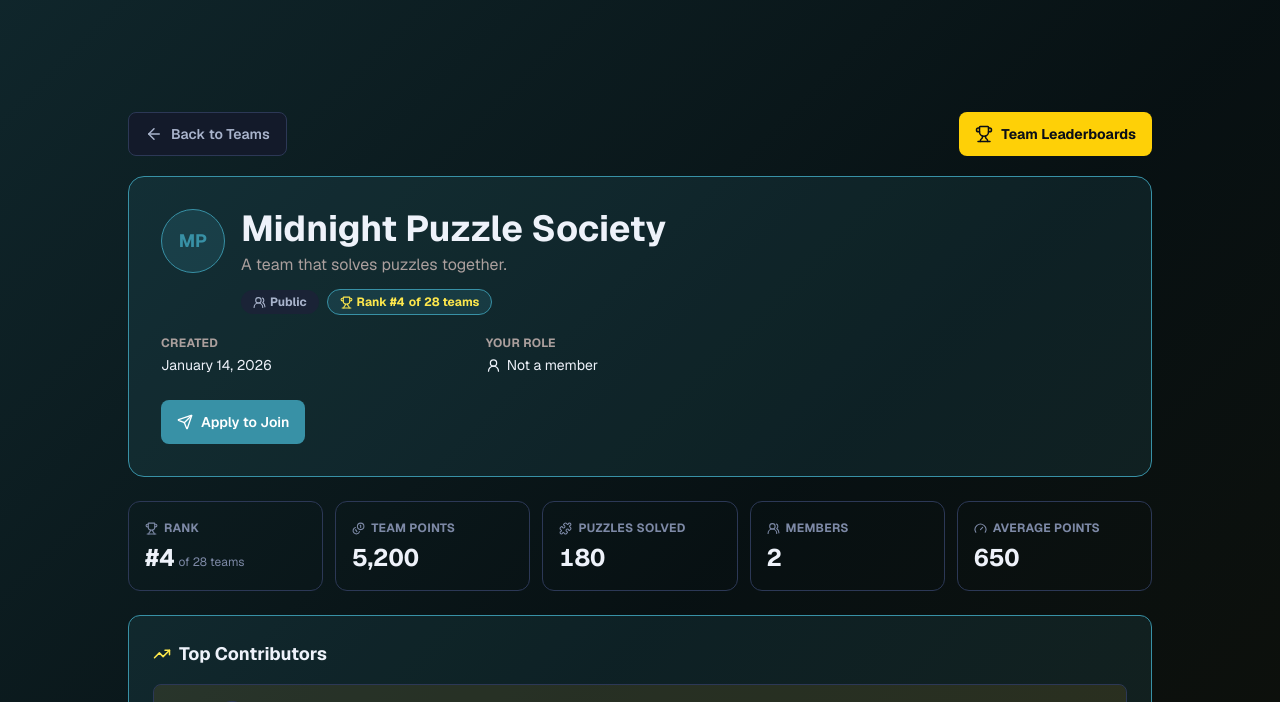
Team Detail page — action deck and theme picker (Pass 16B.1) › 79. apply success preserves exact modal copy
What coordinates should you click on to do the following:
click the button "Apply to Join"
I would click on:
 (233, 422)
Its box is left=161, top=400, right=306, bottom=444.
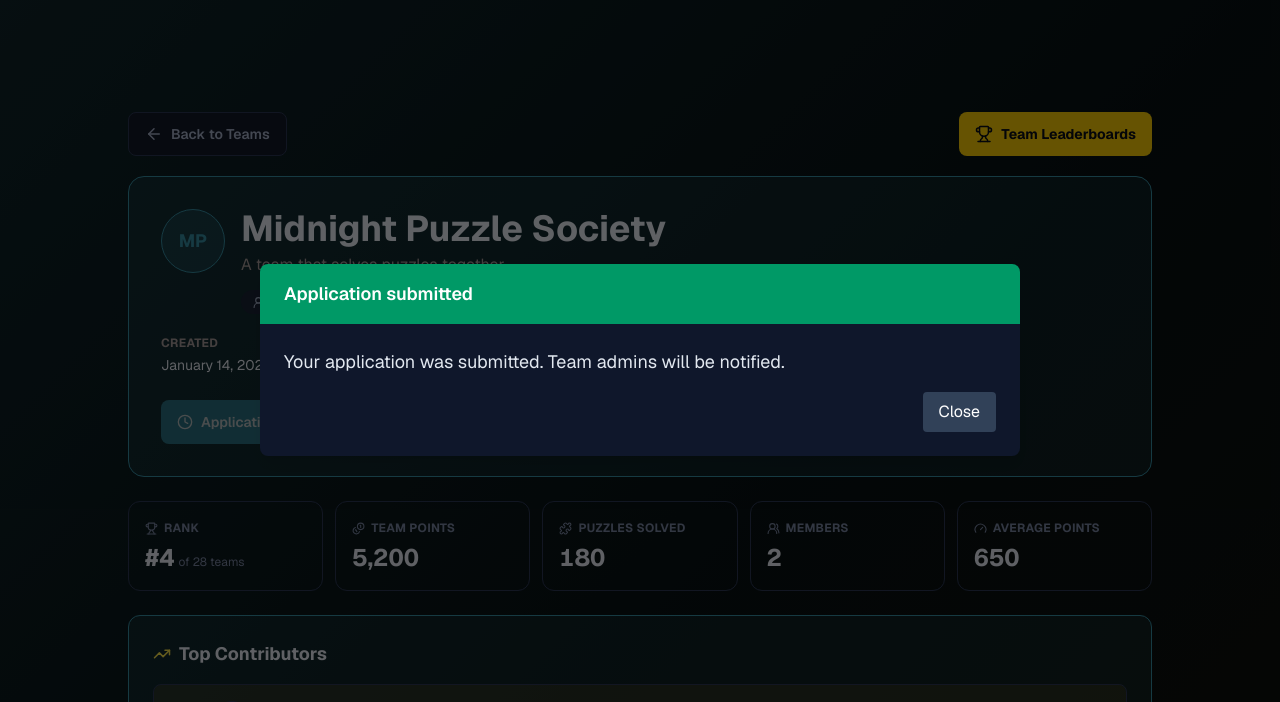
Result: the heading "Application submitted" is shown at left=284, top=282, right=473, bottom=305
Result: the text "Your application was submitted. Team admins will be notified." is shown at left=284, top=350, right=785, bottom=373
